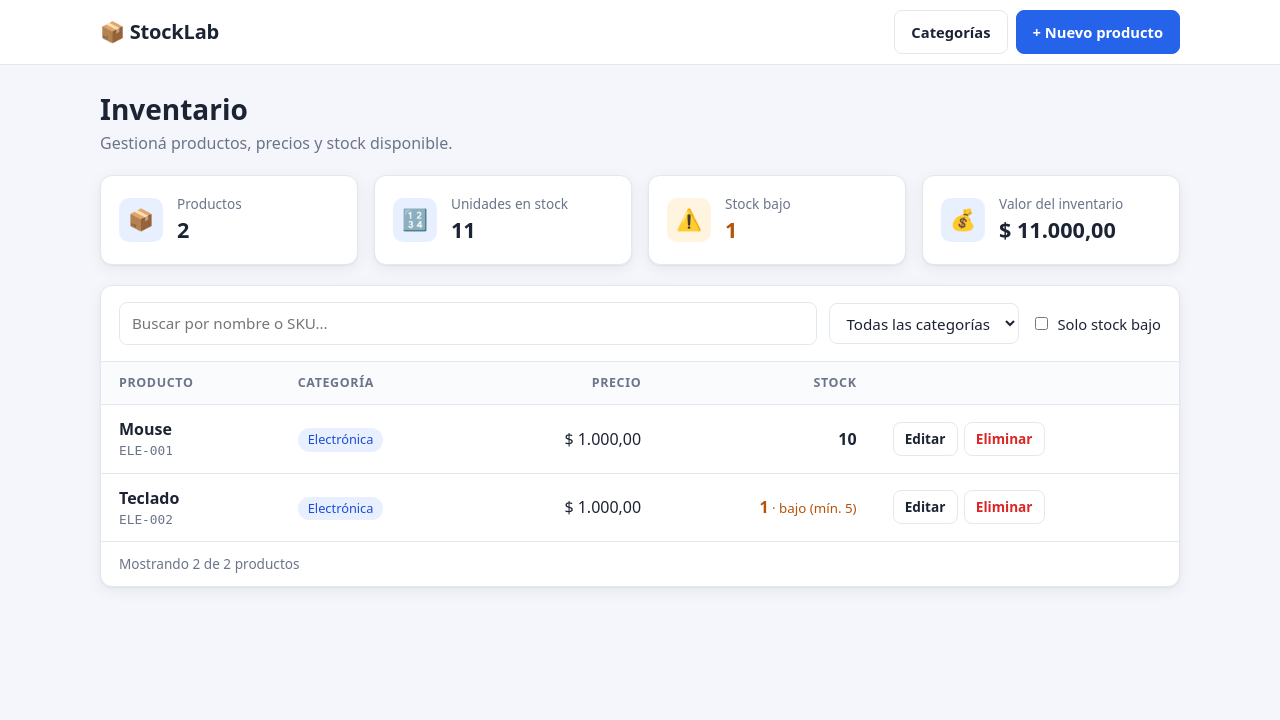
App › ignora respuestas viejas que llegan después de una búsqueda más nueva
The image size is (1280, 720).
Expected: the text "Mouse" is shown, x1=119 y1=418 x2=172 y2=440
Type "mou" into the search field named "Buscar productos" at point(468, 324), box x1=119 y1=302 x2=818 y2=345
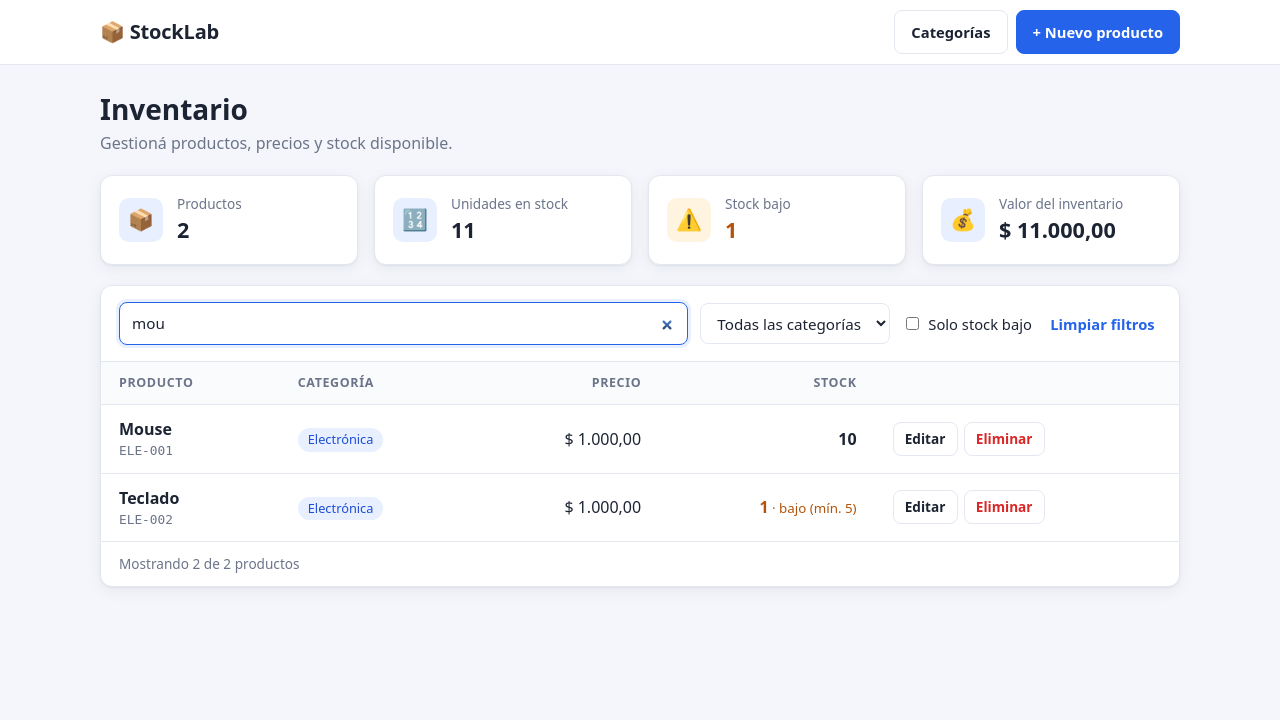
Clear the search field named "Buscar productos" at point(404, 324), box x1=119 y1=302 x2=688 y2=345
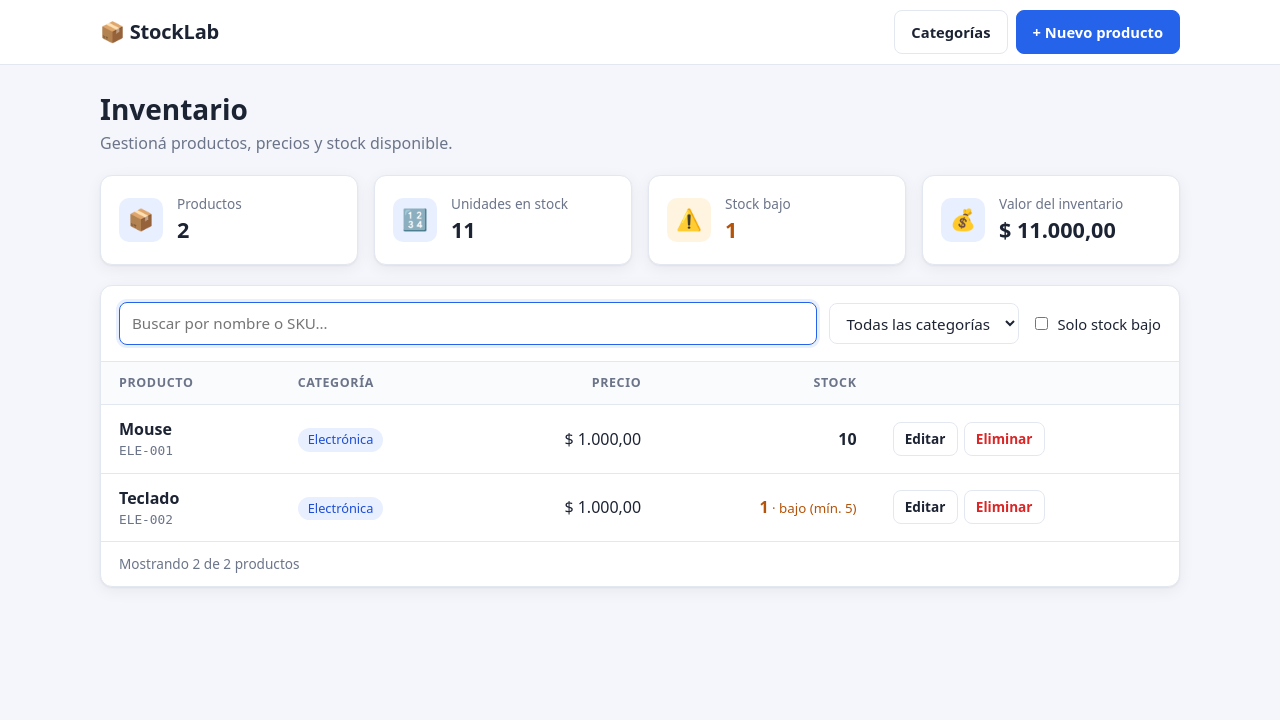
Type "tec" into the search field named "Buscar productos" at point(468, 324), box x1=119 y1=302 x2=818 y2=345
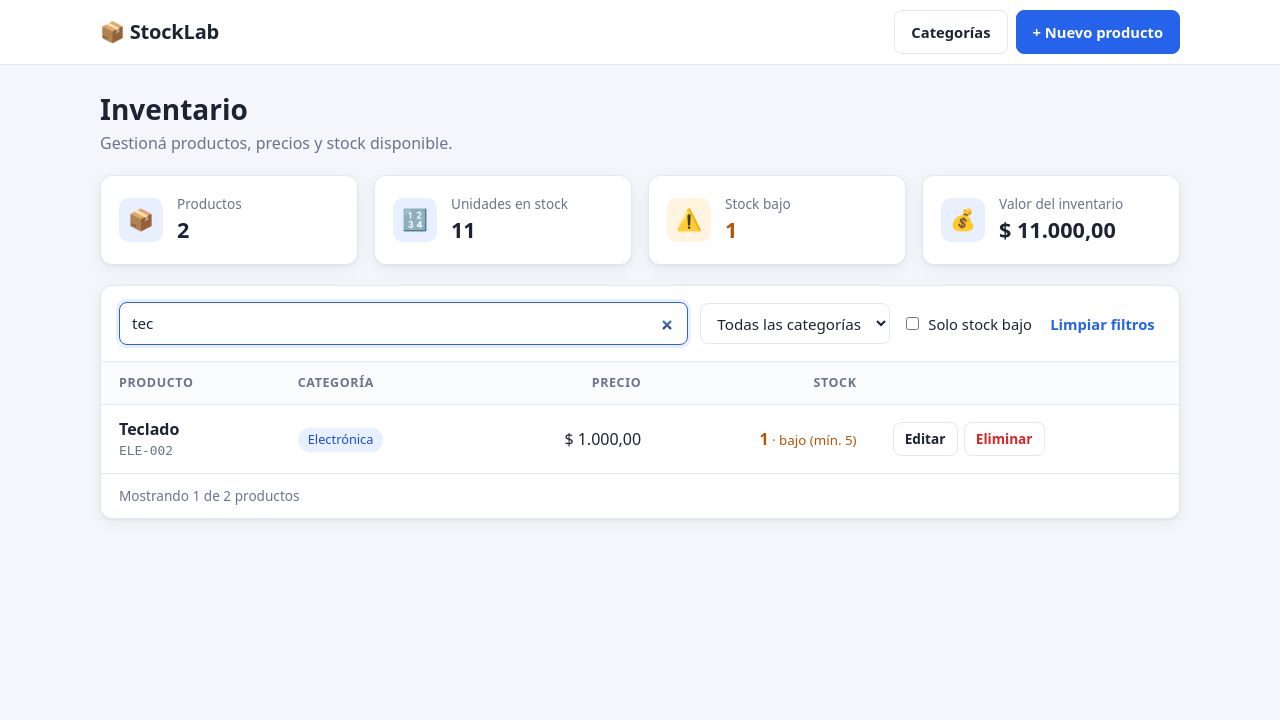
Expected: the text "Teclado" is shown, x1=119 y1=418 x2=179 y2=440
Expected: the text "Mouse" is gone
